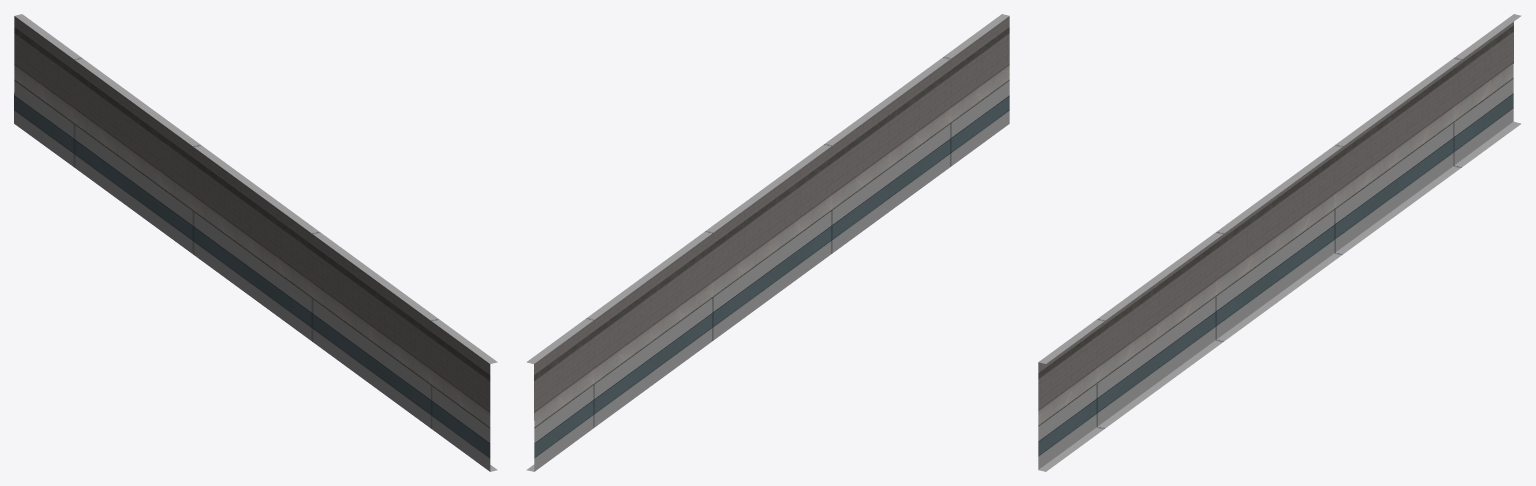
Rendered from barrier_lod.fbx.
The picture shows the model from 3 angles, left to right: view 1: azimuth 30°, elevation 25°; view 2: azimuth 150°, elevation 25°; view 3: azimuth 330°, elevation 25°; orthographic projection.
Visible parts, largest first — view 1: Tunnel_lod.002; view 2: Tunnel_lod.002; view 3: Tunnel_lod.002.
Part boxes in pixels (x1,y1,x2,y2): Tunnel_lod.002: (14, 14, 497, 471); Tunnel_lod.002: (526, 14, 1009, 471); Tunnel_lod.002: (1038, 14, 1521, 471).
Size of the model in its own units: 63.63 by 800 by 6400.
